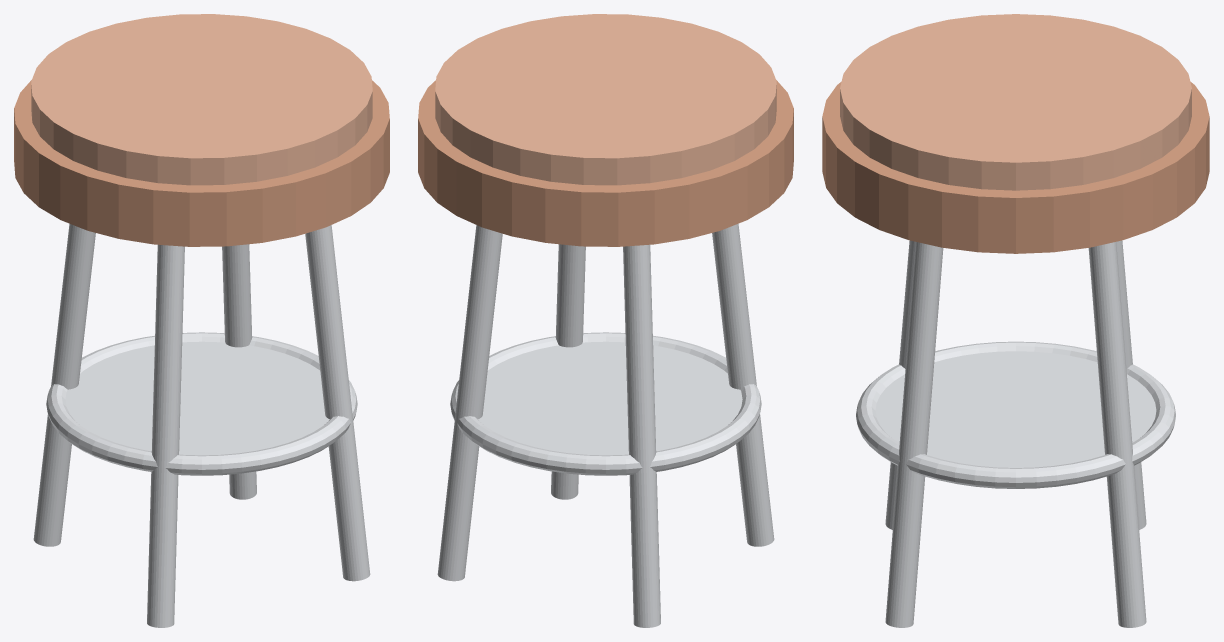
The model's file is cafe_bar_stool.glb.
3 renders of one model, left to right at view 1: azimuth 30°, elevation 25°; view 2: azimuth 150°, elevation 25°; view 3: azimuth 270°, elevation 25°, orthographic. The views are drawn at different scales.
Visible parts, largest first — view 1: StoolCushion, StoolSeat, Footrest, Leg_2, Leg_3, Torus, Leg_1, Leg_0; view 2: StoolCushion, StoolSeat, Footrest, Leg_1, Leg_0, Torus, Leg_2, Leg_3; view 3: StoolCushion, StoolSeat, Footrest, Leg_0, Leg_3, Torus, Leg_1, Leg_2.
Part boxes in pixels (x1,y1,x2,y2): StoolCushion: [31, 14, 372, 185]; StoolSeat: [14, 80, 389, 246]; Footrest: [65, 341, 329, 455]; Leg_2: [147, 244, 184, 627]; Leg_3: [305, 225, 370, 581]; Torus: [46, 332, 357, 475]; Leg_1: [33, 223, 95, 546]; Leg_0: [222, 244, 256, 499]; StoolCushion: [435, 14, 776, 185]; StoolSeat: [418, 80, 793, 246]; Footrest: [478, 341, 742, 455]; Leg_1: [623, 244, 660, 627]; Leg_0: [437, 225, 502, 581]; Torus: [450, 332, 761, 475]; Leg_2: [712, 223, 774, 546]; Leg_3: [551, 244, 585, 499]; StoolCushion: [840, 14, 1191, 190]; StoolSeat: [822, 81, 1209, 253]; Footrest: [875, 351, 1156, 467]; Leg_0: [1088, 242, 1146, 627]; Leg_3: [885, 242, 943, 627]; Torus: [856, 341, 1175, 488]; Leg_1: [1116, 240, 1146, 529]; Leg_2: [885, 240, 915, 529].
Size of the model in its own units: 2.2 by 3.05 by 2.2.
